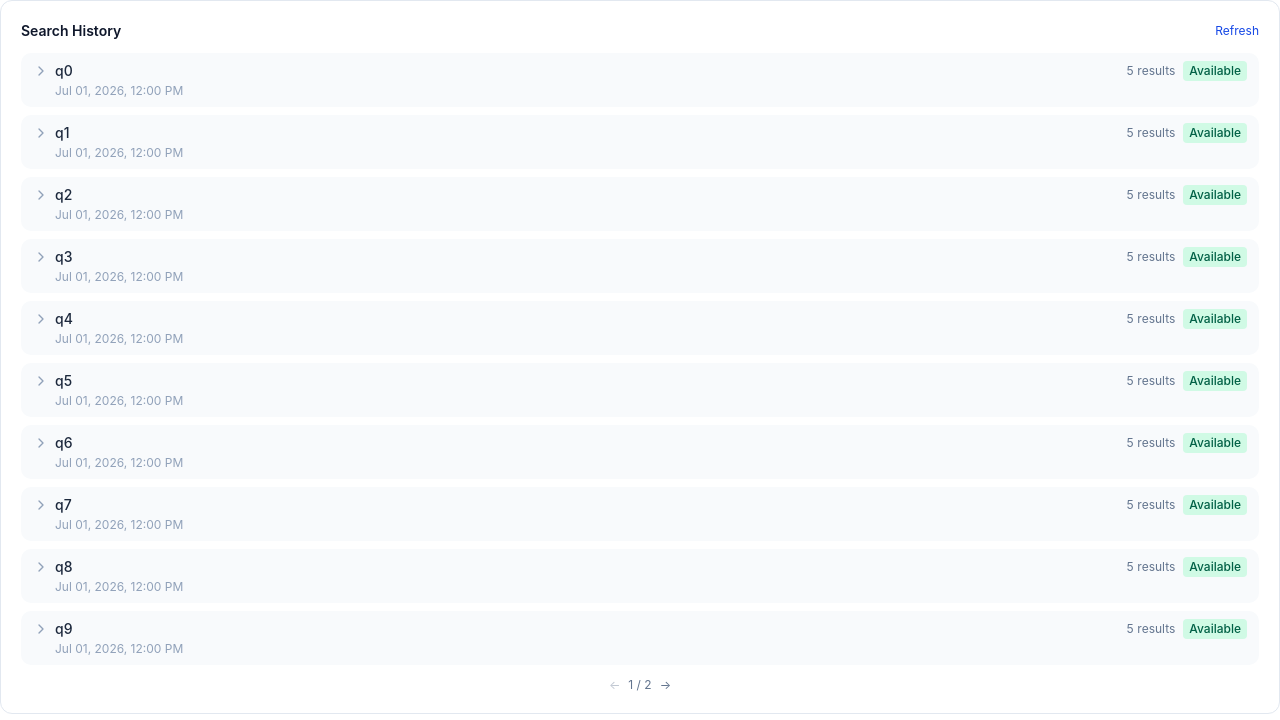
Test: SearchHistoryList — рендер строк › пагинация: >10 записей показывает контролы, следующая страница работает
Expected: the text "1 / 2" is shown, 628,677 -> 652,693
Expected: the text "q0" is shown, 55,62 -> 73,79
Click the button named "Next page" at (665,685), box 660,677 -> 671,693
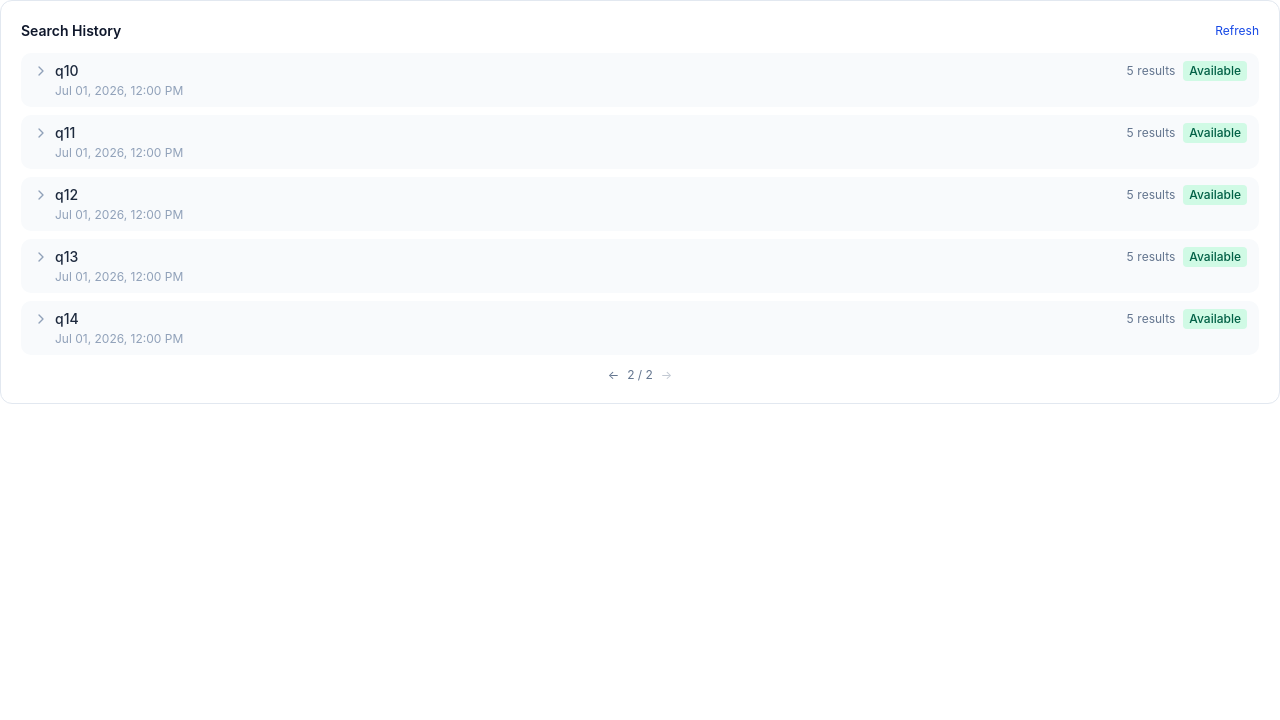
Expected: the text "q10" is shown, 55,62 -> 78,79
Expected: the button "q0" is gone
